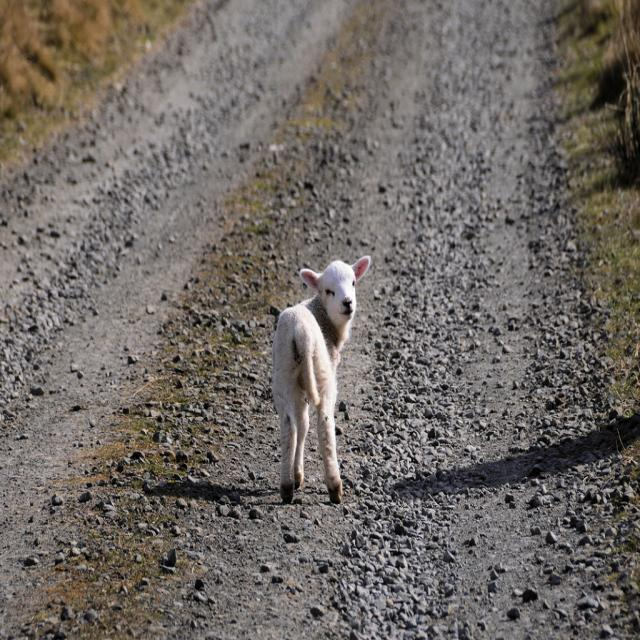Sheep: (272, 254, 374, 507)
